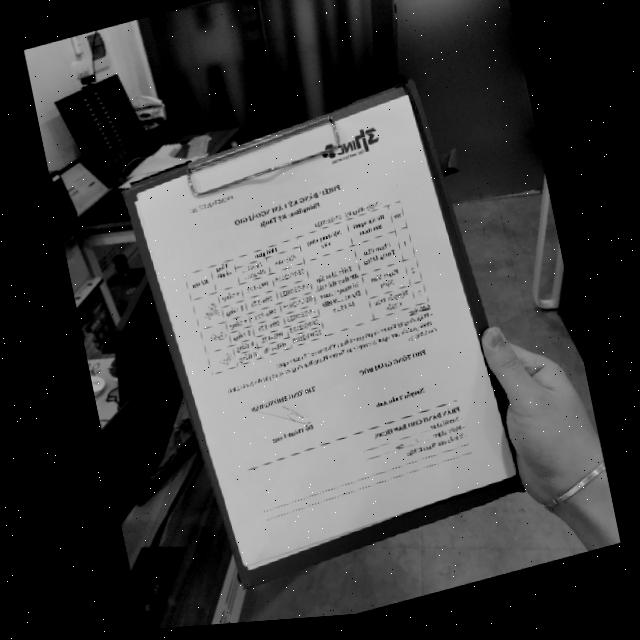document: (132, 95, 518, 571)
